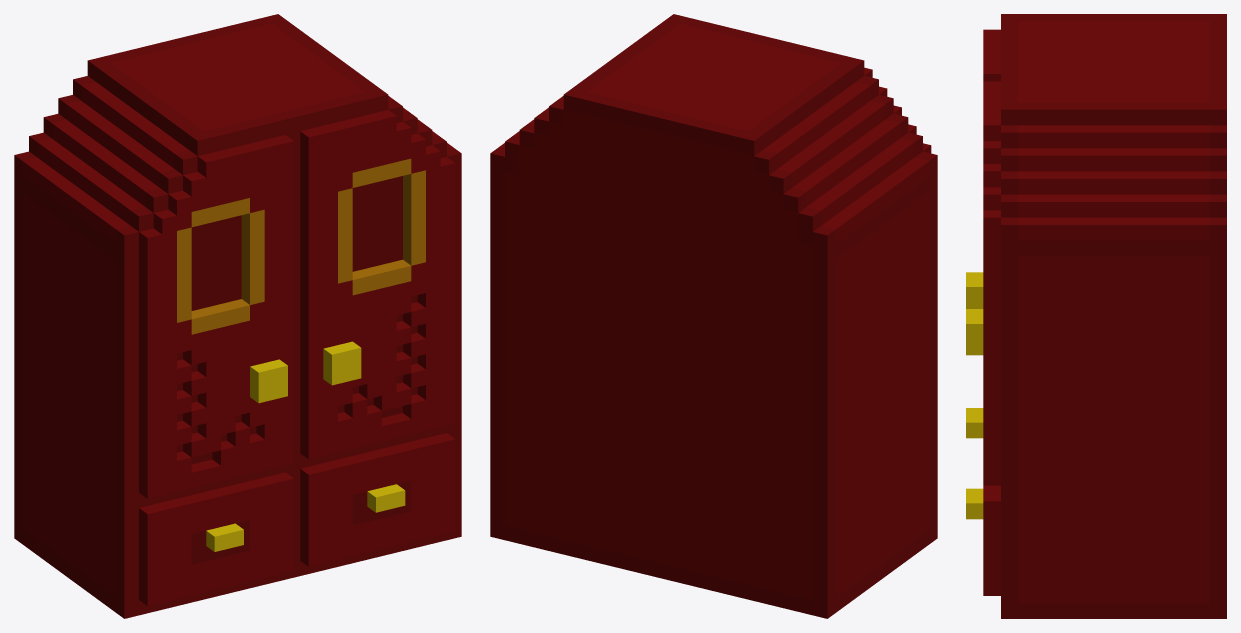
File: wardrobe.obj
3 renders of one model, left to right at view 1: azimuth 30°, elevation 25°; view 2: azimuth 150°, elevation 25°; view 3: azimuth 270°, elevation 25°, orthographic. The views are drawn at different scales.
Parts seen in each view (by area): view 1: model_0; view 2: model_0; view 3: model_0.
Boxes of the visible parts, left/top/right/bottom form: model_0: left=14, top=14, right=461, bottom=618; model_0: left=490, top=14, right=937, bottom=618; model_0: left=966, top=14, right=1226, bottom=618.
Size of the model in its own units: 2.3 by 3 by 1.5.
